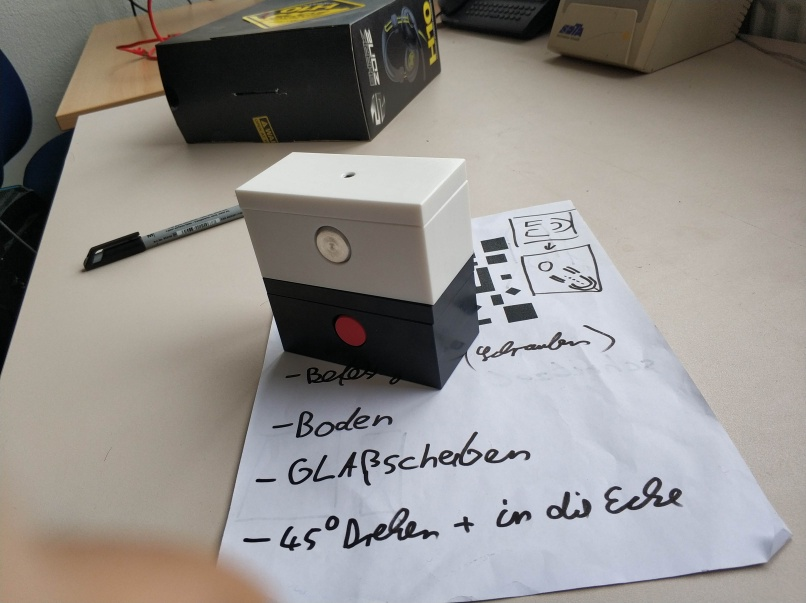black+black+red: (251, 253, 482, 392)
white+white+silver: (230, 150, 475, 308)
